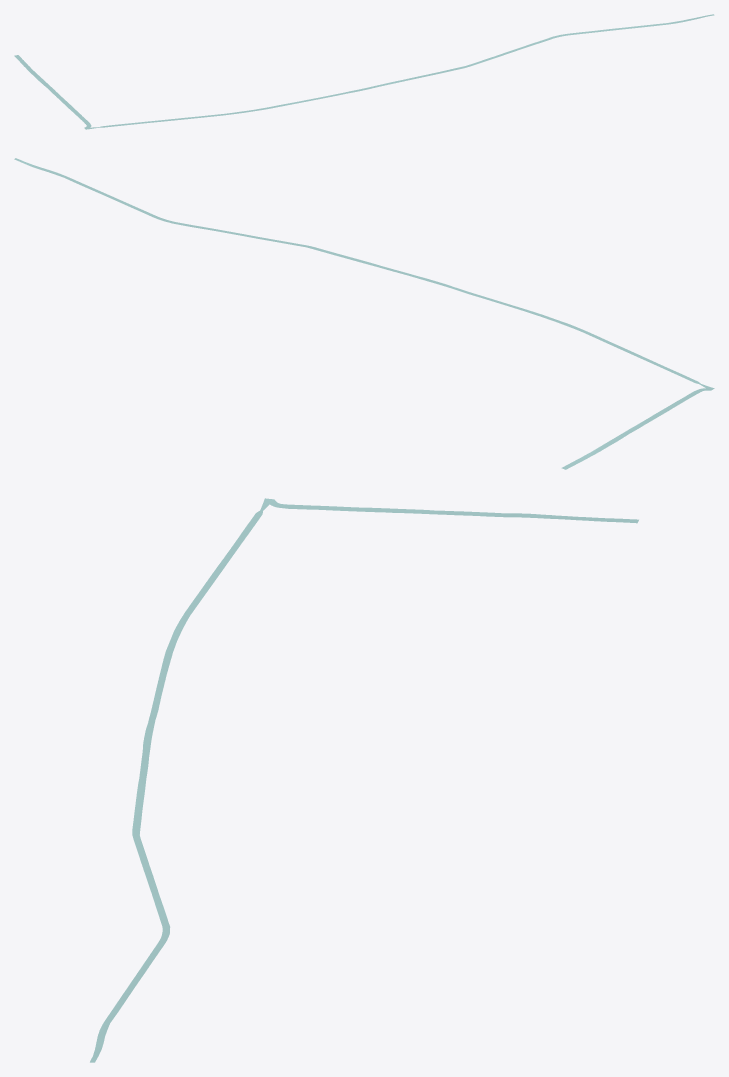
The model's file is suelo_Agua.glb.
3 views of the same model, one above another, from view 1: azimuth 30°, elevation 25°; view 2: azimuth 150°, elevation 25°; view 3: azimuth 270°, elevation 25° (orthographic). The views are drawn at different scales.
Visible parts, largest first — view 1: Suelo_Agua; view 2: Suelo_Agua; view 3: Suelo_Agua.
Part boxes in pixels (bbox=[...]): Suelo_Agua: bbox=[14, 14, 714, 129]; Suelo_Agua: bbox=[14, 158, 714, 469]; Suelo_Agua: bbox=[90, 498, 638, 1062].
Bounding box in the file's own units: 1786 × 11.37 × 726.
